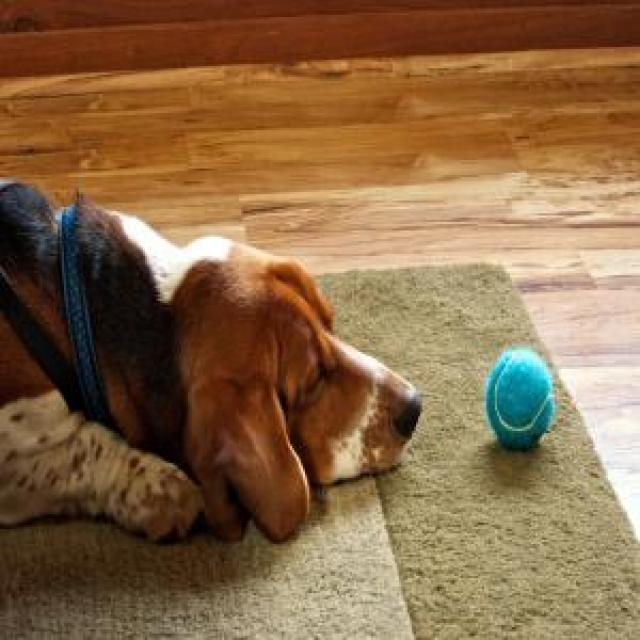Tennis-Ball: (483, 347, 554, 453)
